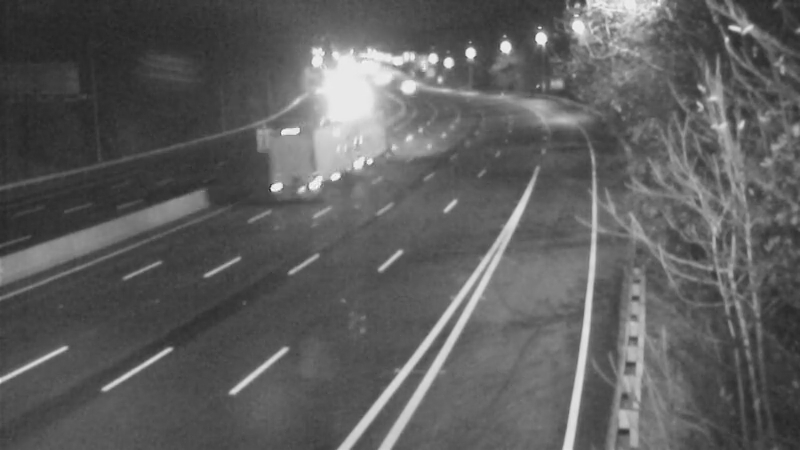vehicle: (257, 117, 337, 197), (387, 61, 437, 111), (314, 89, 364, 139)
